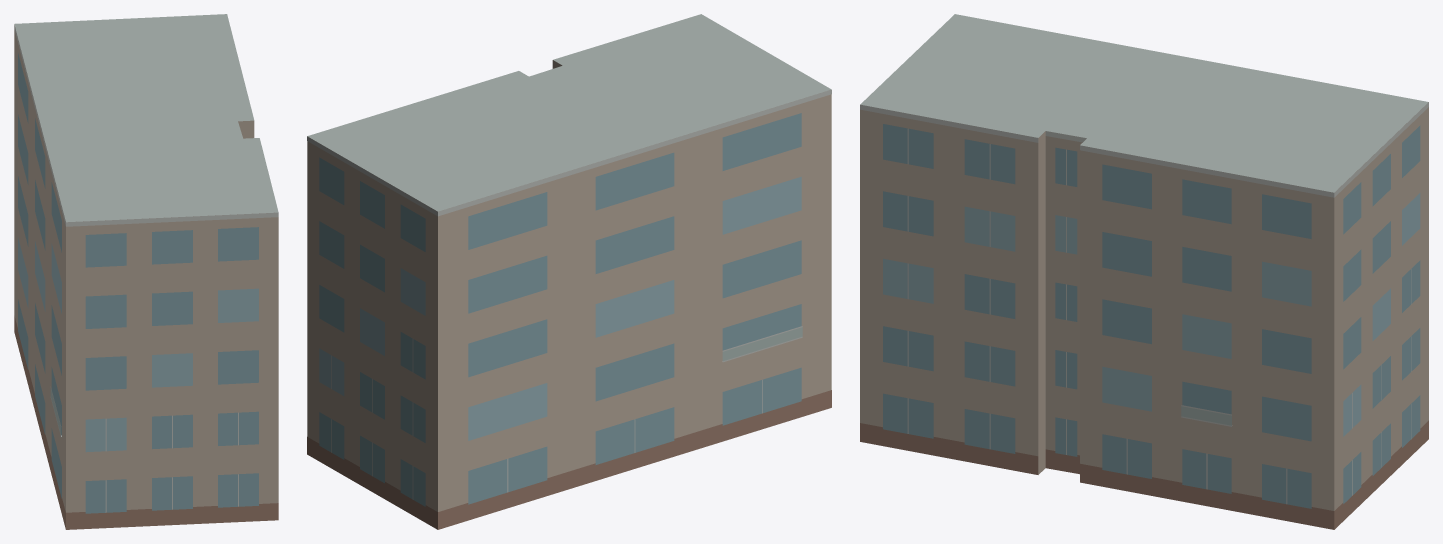
File: survey-upis-32997831.glb
3 renders of one model, left to right at view 1: azimuth 30°, elevation 25°; view 2: azimuth 150°, elevation 25°; view 3: azimuth 270°, elevation 25°, orthographic. The views are drawn at different scales.
Parts seen in each view (by area): view 1: survey-upis-32997831.tmp; view 2: survey-upis-32997831.tmp; view 3: survey-upis-32997831.tmp.
Boxes of the visible parts, left/top/right/bottom form: survey-upis-32997831.tmp: left=14, top=14, right=278, bottom=529; survey-upis-32997831.tmp: left=307, top=14, right=831, bottom=529; survey-upis-32997831.tmp: left=860, top=14, right=1428, bottom=529.
Size of the model in its own units: 18.65 by 16.4 by 25.08.
